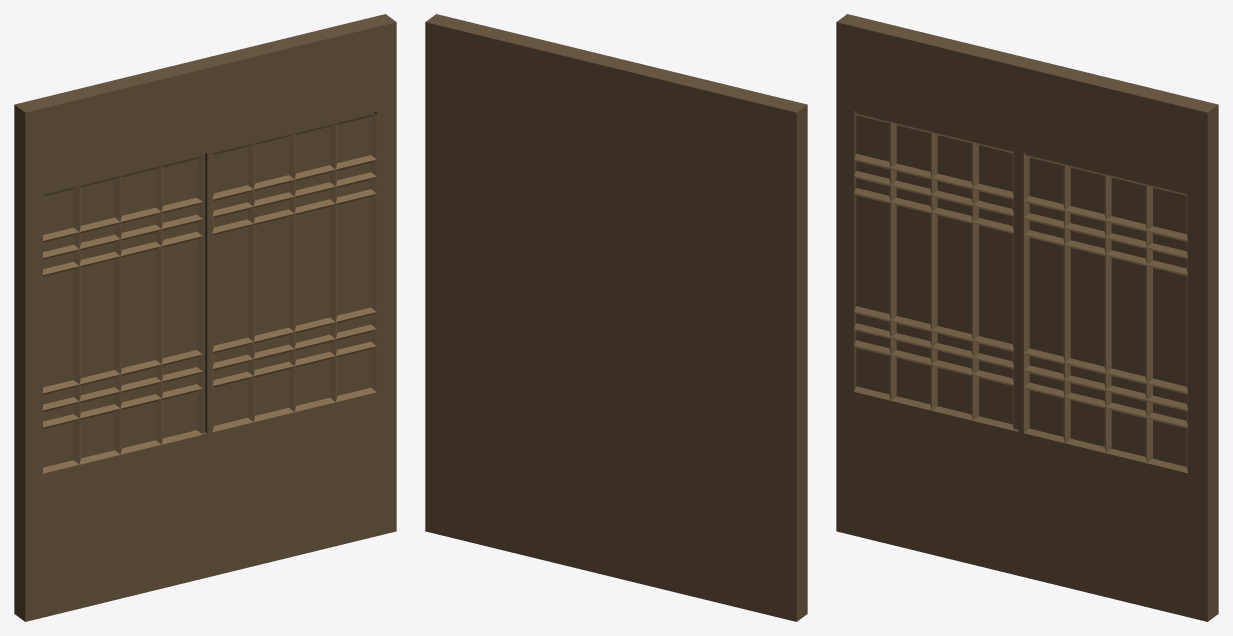
Rendered from SM_Env_Door_03.fbx.
3 renders of one model, left to right at view 1: azimuth 30°, elevation 25°; view 2: azimuth 150°, elevation 25°; view 3: azimuth 330°, elevation 25°, orthographic.
Visible parts, largest first — view 1: SM_Env_Door_03; view 2: SM_Env_Door_03; view 3: SM_Env_Door_03.
Part boxes in pixels (<box>): SM_Env_Door_03: <box>14,14,396,621</box>; SM_Env_Door_03: <box>425,14,807,621</box>; SM_Env_Door_03: <box>836,14,1218,621</box>.
Size of the model in its own units: 115 by 151 by 5.95.
Materials: 1 (1 with a texture image).
